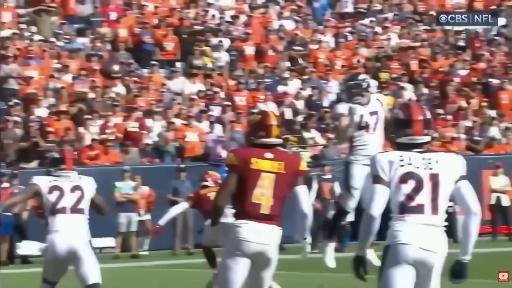Helmet: (391, 102, 432, 143), (247, 111, 282, 144), (344, 72, 370, 104), (46, 148, 73, 174), (200, 171, 221, 187)
Jersey: (371, 151, 466, 250), (226, 148, 307, 225), (32, 172, 96, 237), (348, 94, 386, 164), (188, 187, 219, 220), (188, 187, 218, 219)
Player: (354, 102, 481, 287), (212, 111, 312, 287), (4, 154, 106, 287), (324, 72, 388, 267), (154, 171, 234, 287), (154, 171, 233, 287)
